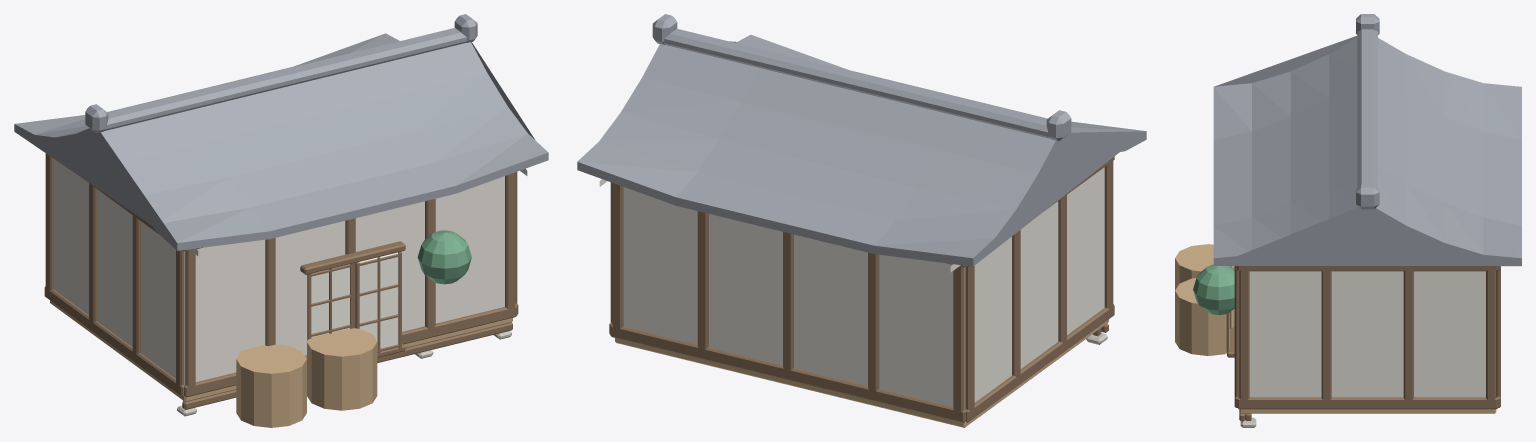
File: sake-brewery.glb
3 renders of one model, left to right at view 1: azimuth 30°, elevation 25°; view 2: azimuth 150°, elevation 25°; view 3: azimuth 270°, elevation 25°, orthographic. The views are drawn at different scales.
Parts seen in each view (by area): view 1: sake-brewery; view 2: sake-brewery; view 3: sake-brewery.
Part boxes in pixels (<box>): sake-brewery: <box>14,14,548,427</box>; sake-brewery: <box>577,14,1146,427</box>; sake-brewery: <box>1175,14,1521,427</box>.
Size of the model in its own units: 8.2 by 5.41 by 6.75.
